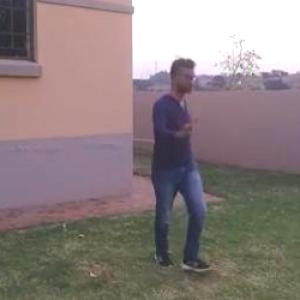takeoff-hand: (178, 108, 206, 136)
